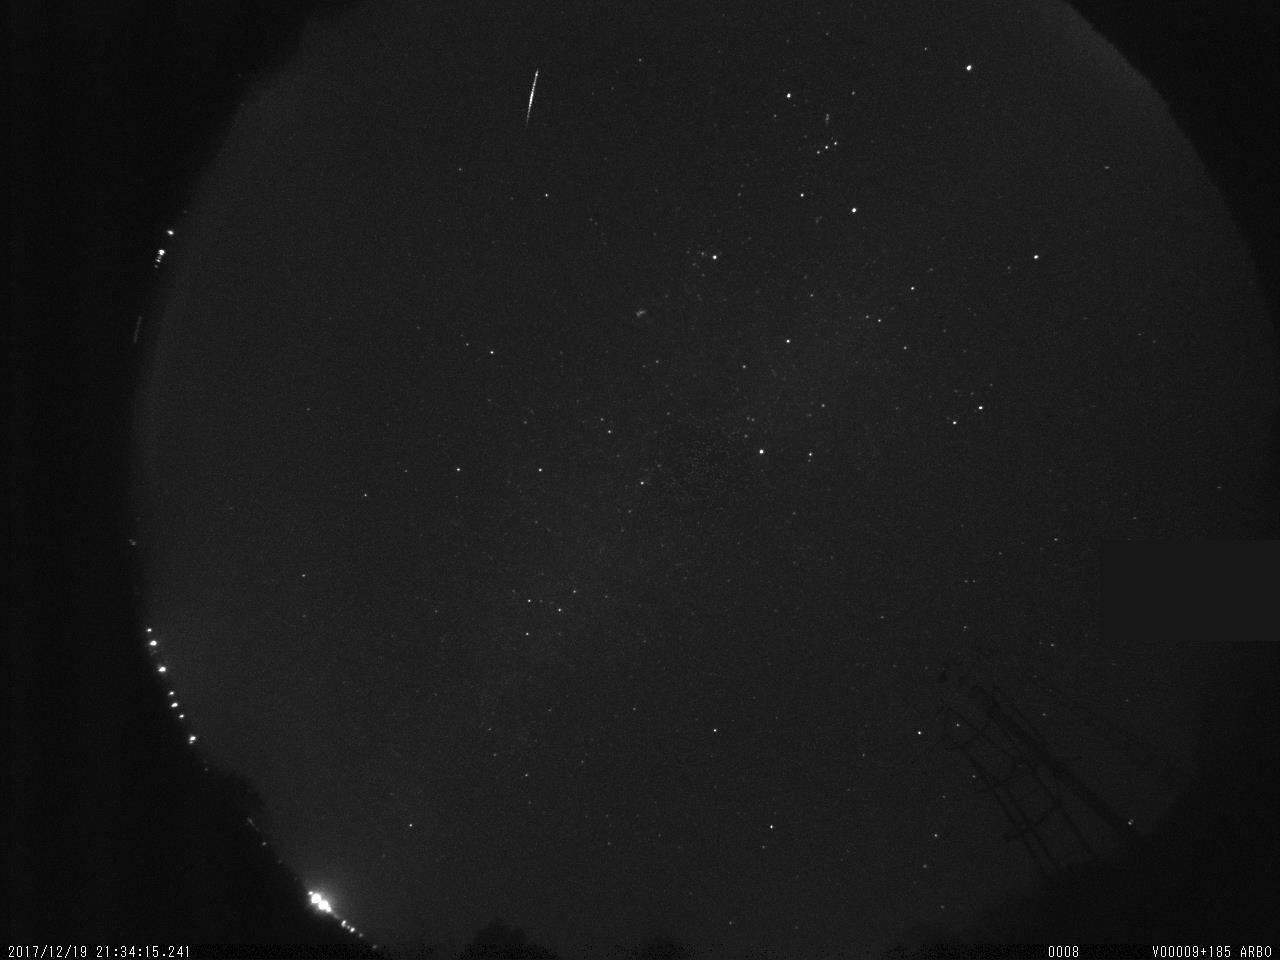meteor: (516, 63, 549, 128)
